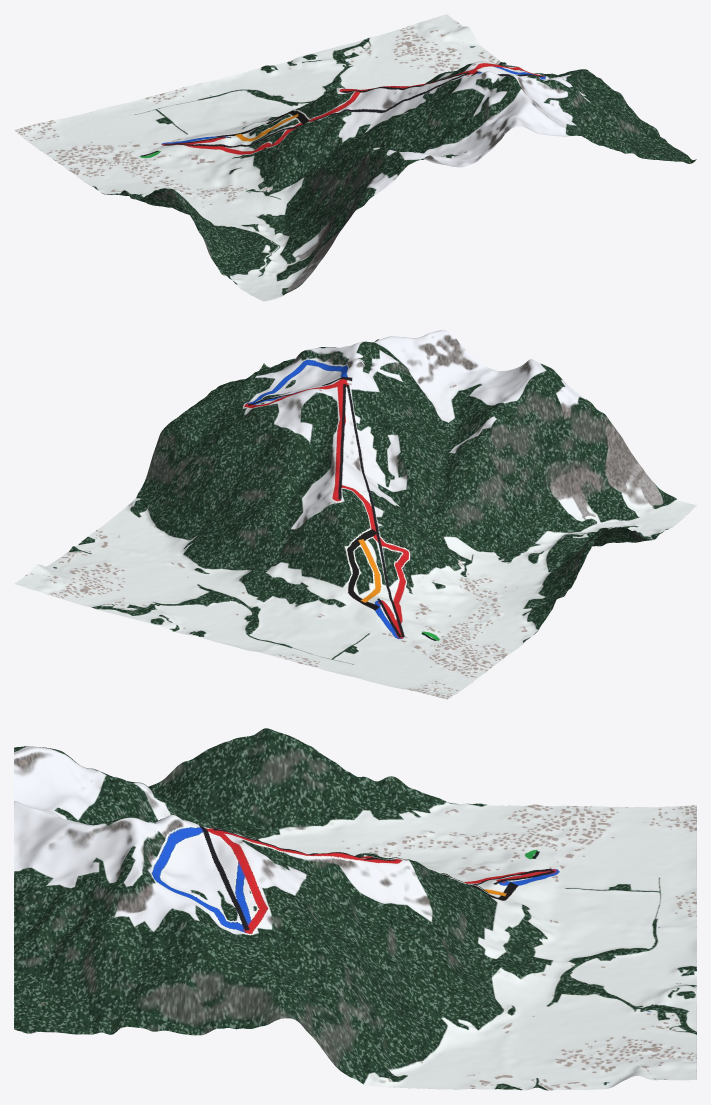
The picture shows the model from 3 angles, top to bottom: view 1: azimuth 30°, elevation 25°; view 2: azimuth 150°, elevation 25°; view 3: azimuth 270°, elevation 25°; orthographic projection. The views are drawn at different scales.
Parts seen in each view (by area): view 1: F1_Neunerkoepfle.glb; view 2: F1_Neunerkoepfle.glb; view 3: F1_Neunerkoepfle.glb.
Part boxes in pixels (box(x1,y1,x2,y2)): F1_Neunerkoepfle.glb: box(14, 14, 696, 301); F1_Neunerkoepfle.glb: box(14, 330, 696, 699); F1_Neunerkoepfle.glb: box(14, 728, 696, 1090).
Size of the model in its own units: 3289 by 982 by 3289.
1 material, 1 textured.
